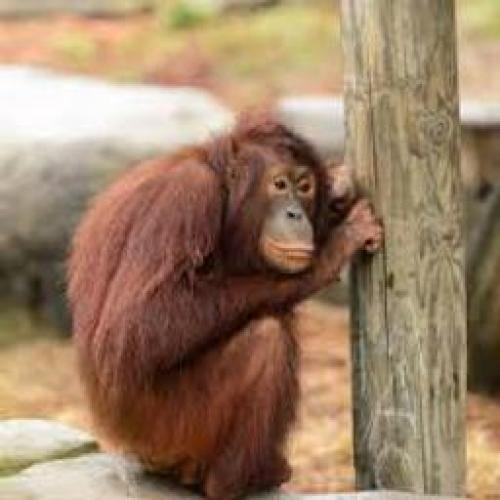orangutan-endangered: (64, 125, 377, 500)
